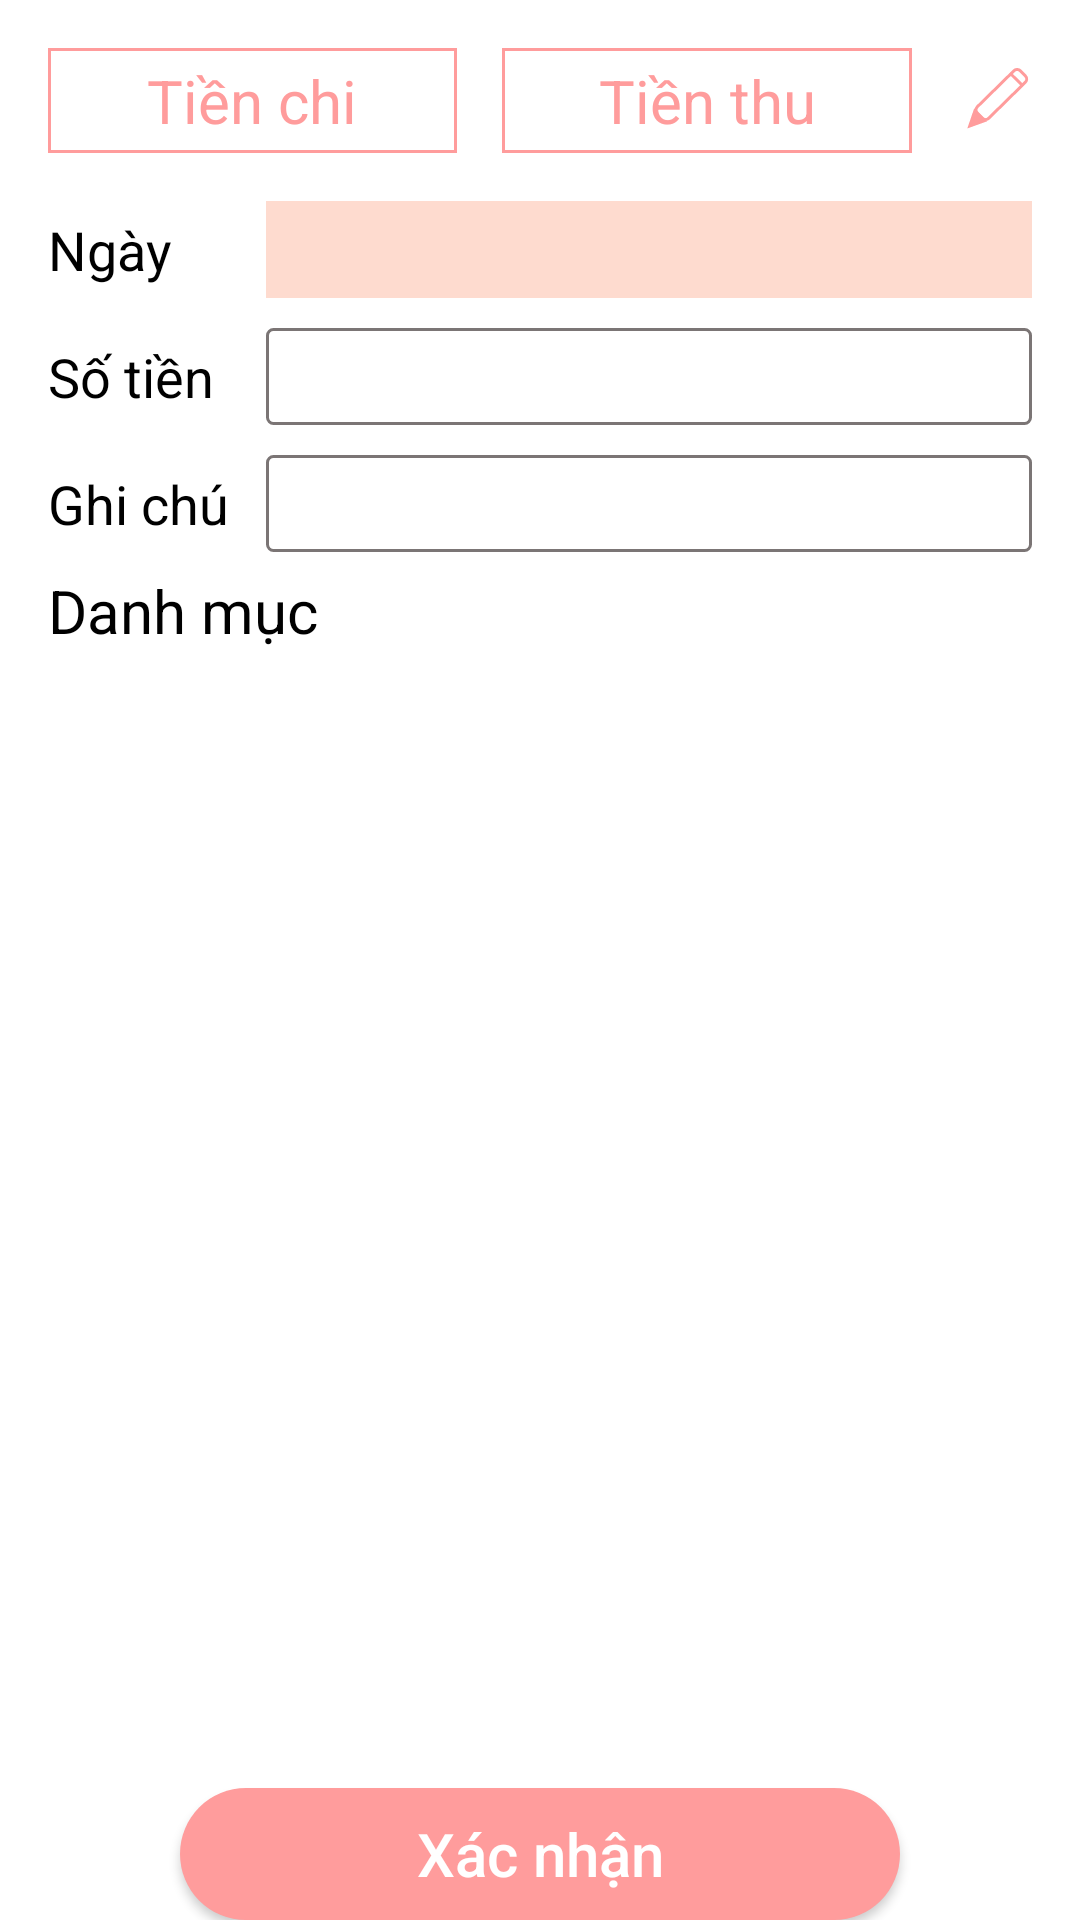

Named icons in this screenshot (1080 × 1920) and their centers, (x=x, y=y):
pencil: (x=997, y=98)
